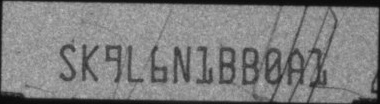0: (264, 47, 283, 86)
1: (309, 45, 327, 87), (196, 45, 214, 84)
6: (149, 45, 169, 83)
9: (104, 43, 123, 83)
A: (286, 48, 306, 85)
B: (241, 45, 260, 84), (218, 46, 236, 84)
K: (81, 43, 99, 82)
L: (127, 43, 145, 83)
N: (173, 45, 192, 83)
S: (59, 44, 78, 81)
